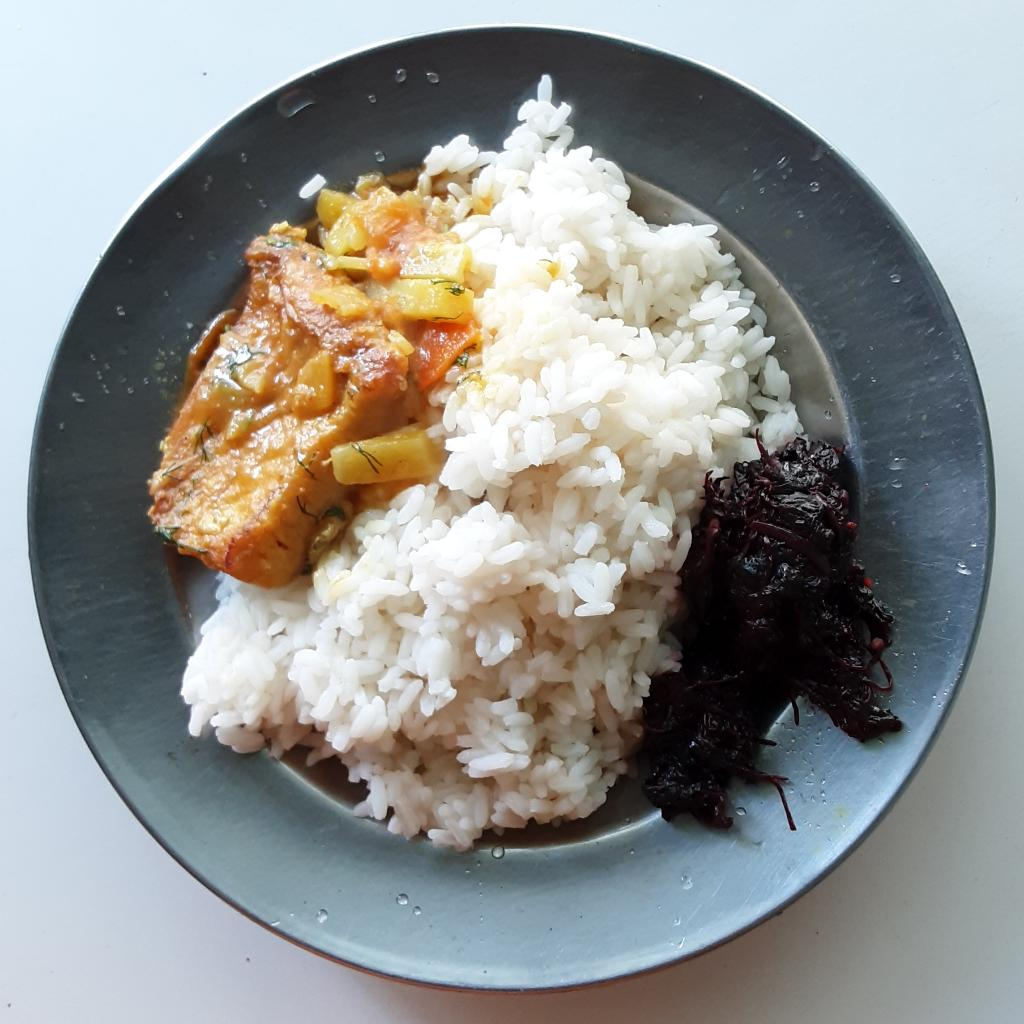fish: (139, 222, 405, 592)
lal-shak: (645, 433, 905, 833)
potato: (316, 168, 486, 488)
rice: (175, 67, 804, 850)
